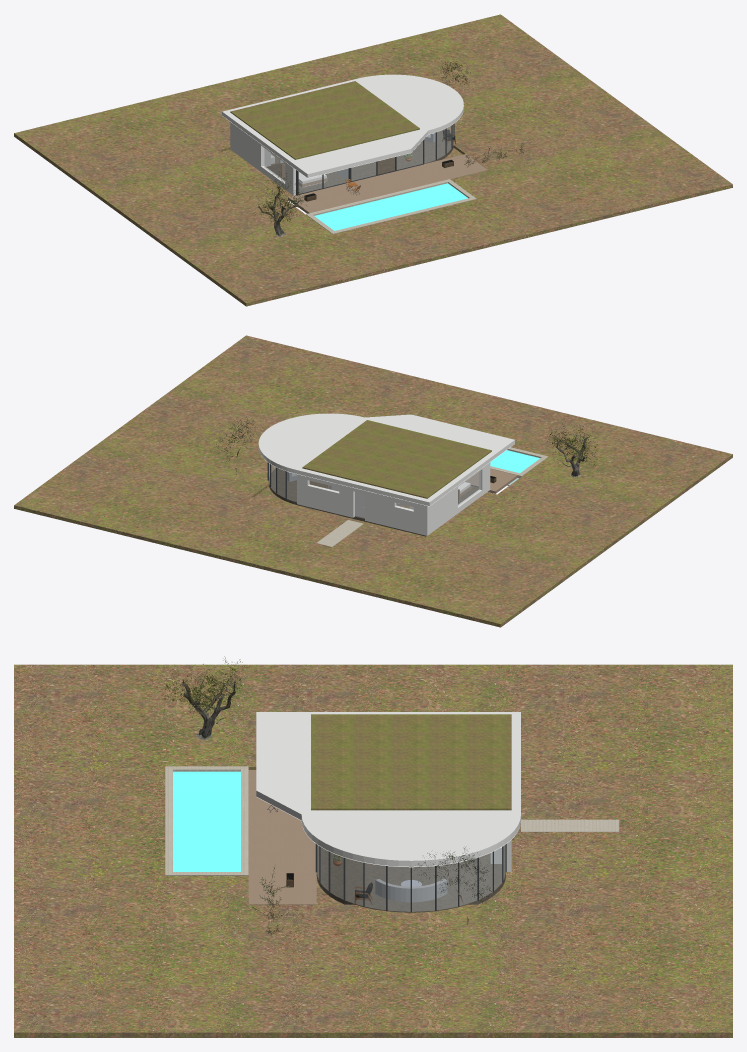
The model's file is futur.glb.
3 renders of one model, top to bottom at view 1: azimuth 30°, elevation 25°; view 2: azimuth 150°, elevation 25°; view 3: azimuth 270°, elevation 25°, orthographic. The views are drawn at different scales.
Parts seen in each view (by area): view 1: Ext, Shell, Water, Glass, Furn; view 2: Ext, Shell, Glass, Water, Furn; view 3: Ext, Shell, Glass, Water, Furn.
Part boxes in pixels (<box>): Ext: <box>14,14,732,306</box>; Shell: <box>222,74,463,195</box>; Water: <box>314,183,467,230</box>; Glass: <box>264,124,453,193</box>; Furn: <box>271,129,455,187</box>; Ext: <box>14,335,732,627</box>; Shell: <box>258,413,514,536</box>; Glass: <box>268,463,480,509</box>; Water: <box>490,450,540,473</box>; Furn: <box>287,471,471,517</box>; Ext: <box>14,656,732,1037</box>; Shell: <box>256,712,520,912</box>; Glass: <box>317,845,505,911</box>; Water: <box>173,771,240,871</box>; Furn: <box>333,847,501,905</box>.
Bounding box in the file's own units: 46 × 6.38 × 38.
41 materials, 27 textured.
